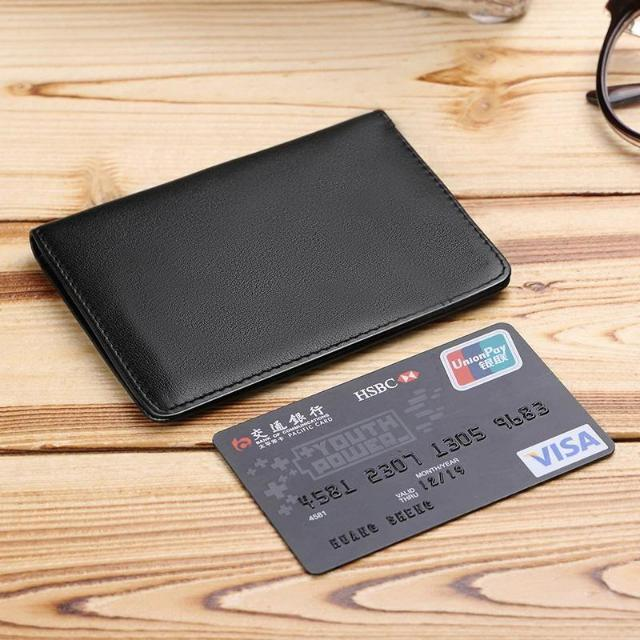wallet: (26, 105, 518, 423)
